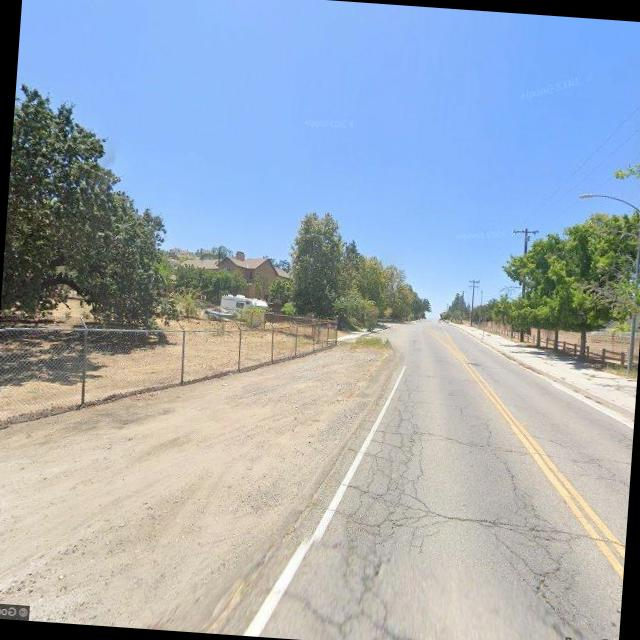crack: (296, 378, 635, 640), (303, 554, 437, 640)
